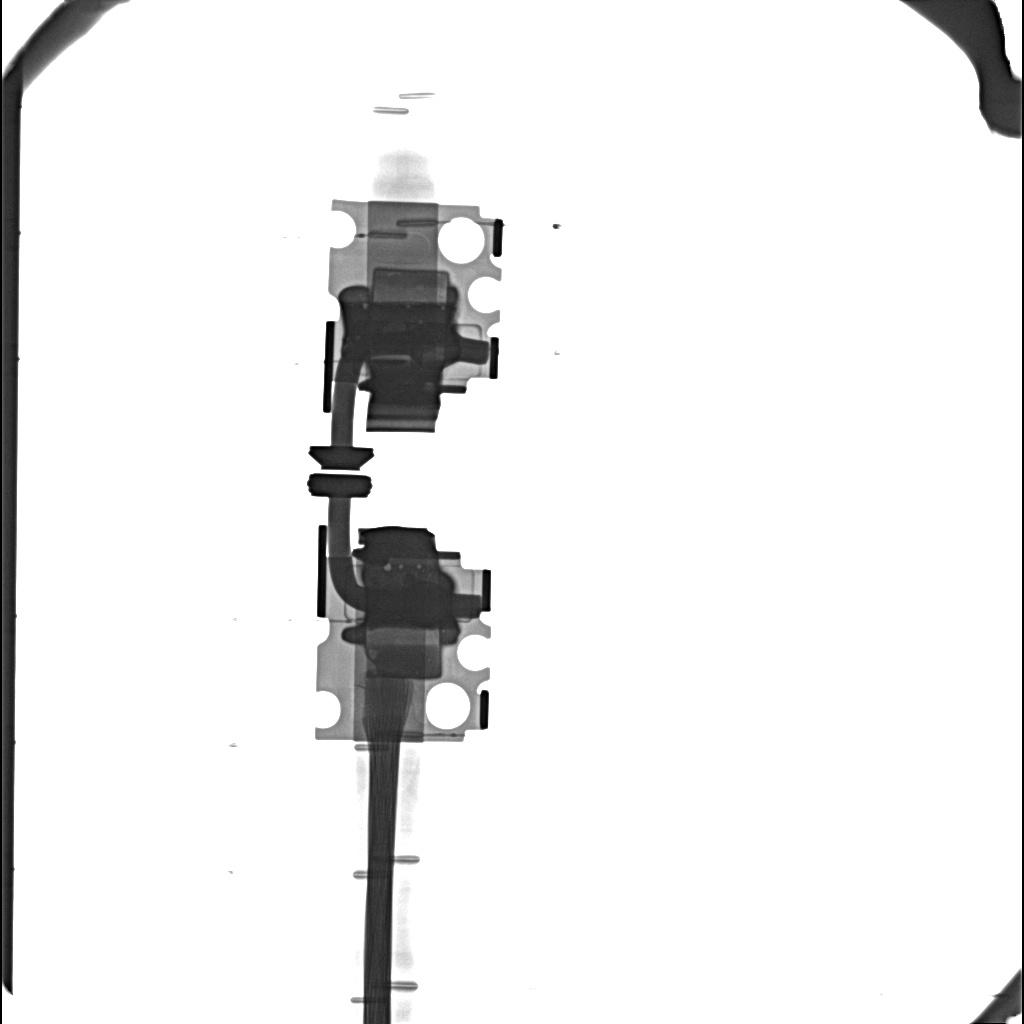defect: (343, 304, 457, 356), (364, 631, 443, 681), (365, 583, 452, 628), (370, 266, 450, 302), (384, 563, 391, 571)
